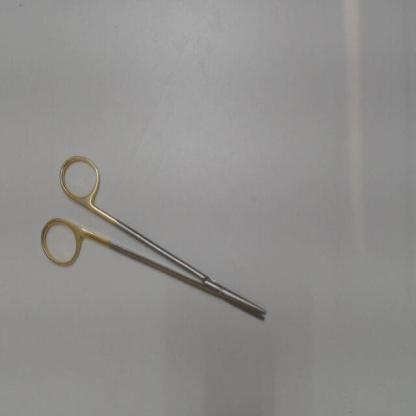7 Metzenbaum Scissors: (38, 146, 270, 328)
